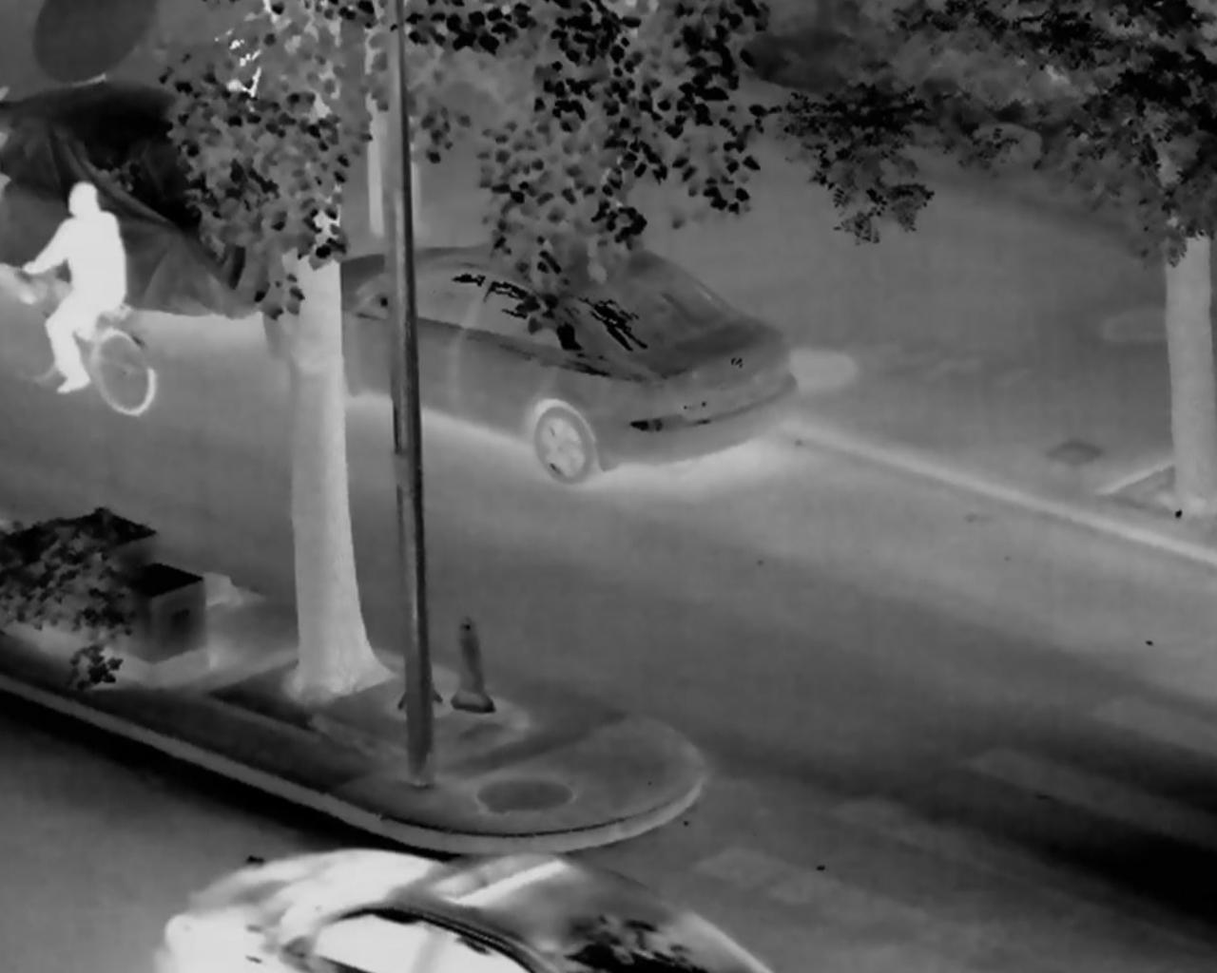person: (23, 181, 127, 398)
